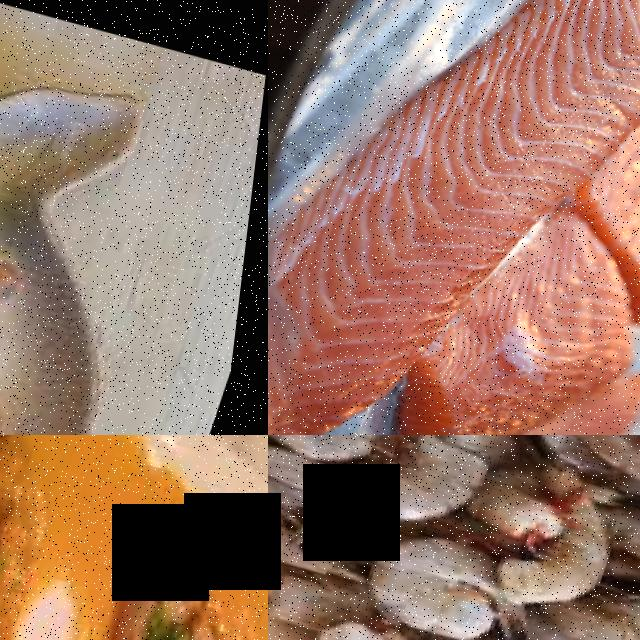salmon: (268, 140, 501, 435), (408, 0, 640, 221), (405, 232, 640, 435)
shrimp: (370, 521, 521, 640), (376, 435, 526, 539), (268, 456, 369, 578), (538, 486, 638, 607), (268, 435, 397, 467), (584, 583, 640, 640), (0, 236, 39, 302)
